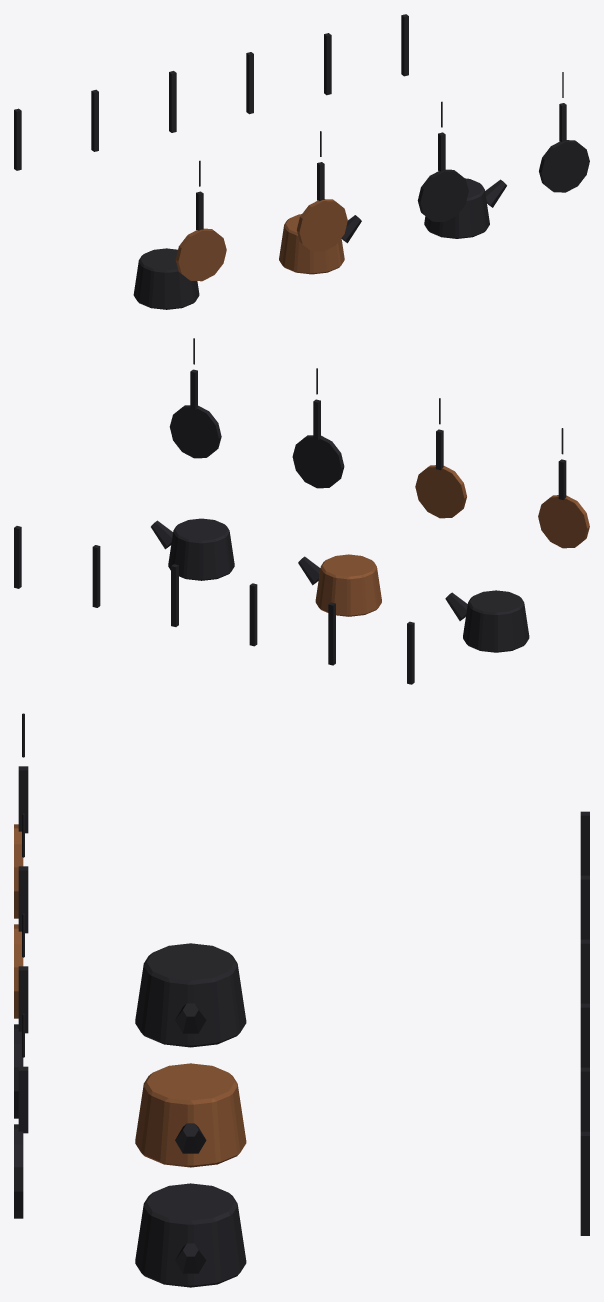
File: goods_tinker.glb
3 views of the same model, one above another, from view 1: azimuth 30°, elevation 25°; view 2: azimuth 150°, elevation 25°; view 3: azimuth 270°, elevation 25° (orthographic). The views are drawn at different scales.
Parts seen in each view (by area): view 1: goods_tinker; view 2: goods_tinker; view 3: goods_tinker.
Part boxes in pixels (x1,y1,x2,y2): goods_tinker: [14, 14, 589, 309]; goods_tinker: [14, 338, 589, 684]; goods_tinker: [14, 713, 589, 1287].
Size of the model in its own units: 2.55 by 1.04 by 1.82.
